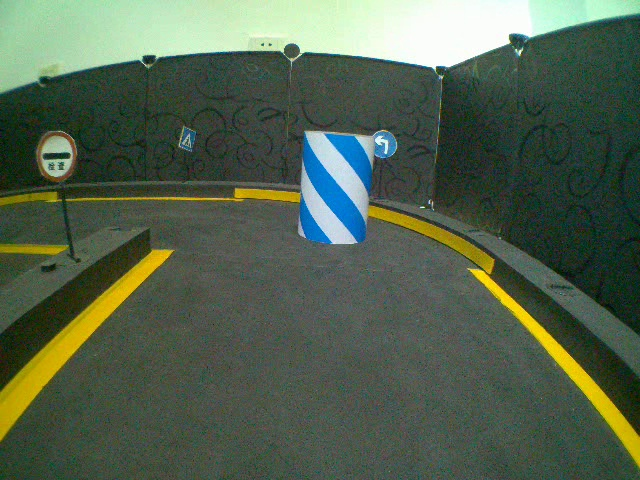bucket: (297, 126, 376, 249)
